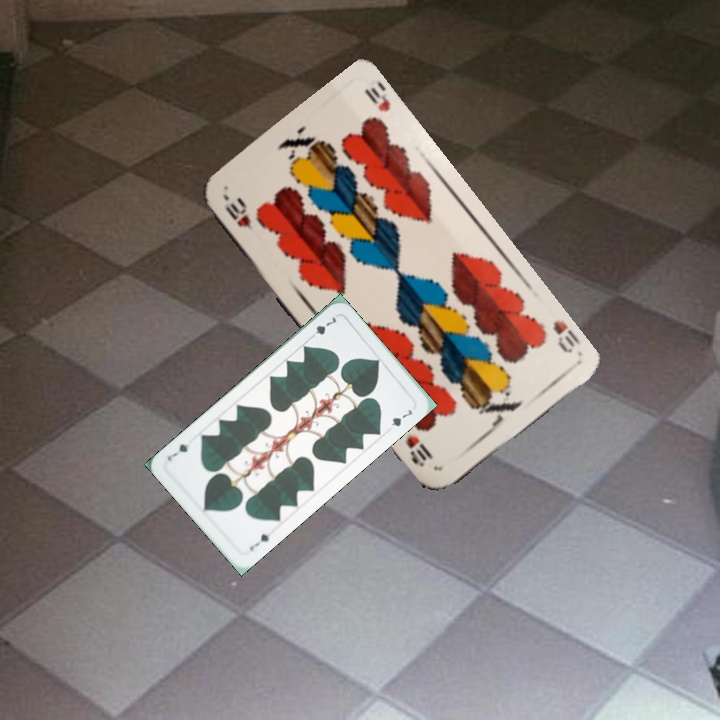G7: (305, 312, 339, 342), (245, 530, 272, 554)
H10: (548, 316, 582, 356), (220, 198, 256, 234)
